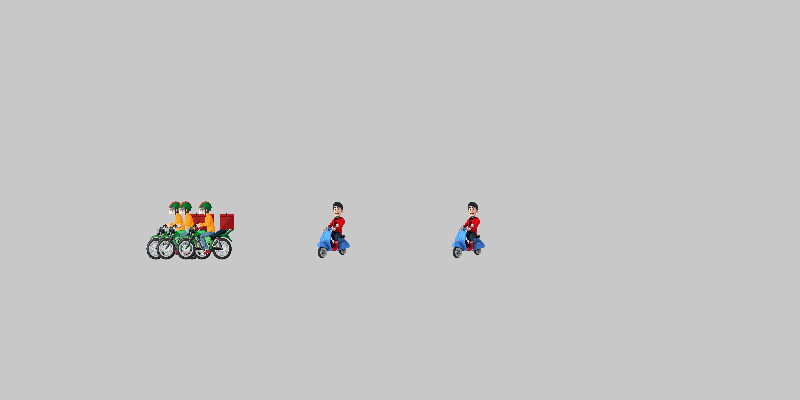helmet: (145, 200, 205, 260), (155, 200, 215, 260), (175, 200, 235, 260)
no_helmet: (305, 200, 365, 260), (440, 200, 500, 260)
